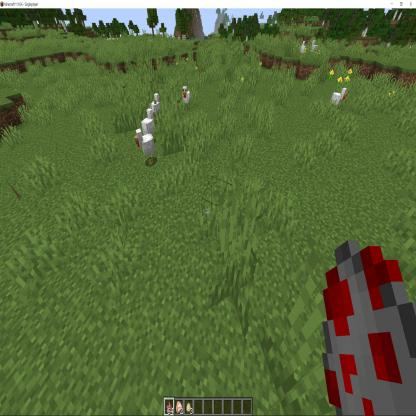minecraft-pigs: (133, 128, 158, 166), (328, 84, 349, 119), (142, 110, 158, 138), (180, 85, 192, 110), (150, 93, 162, 116), (298, 36, 307, 60), (310, 40, 320, 60)
